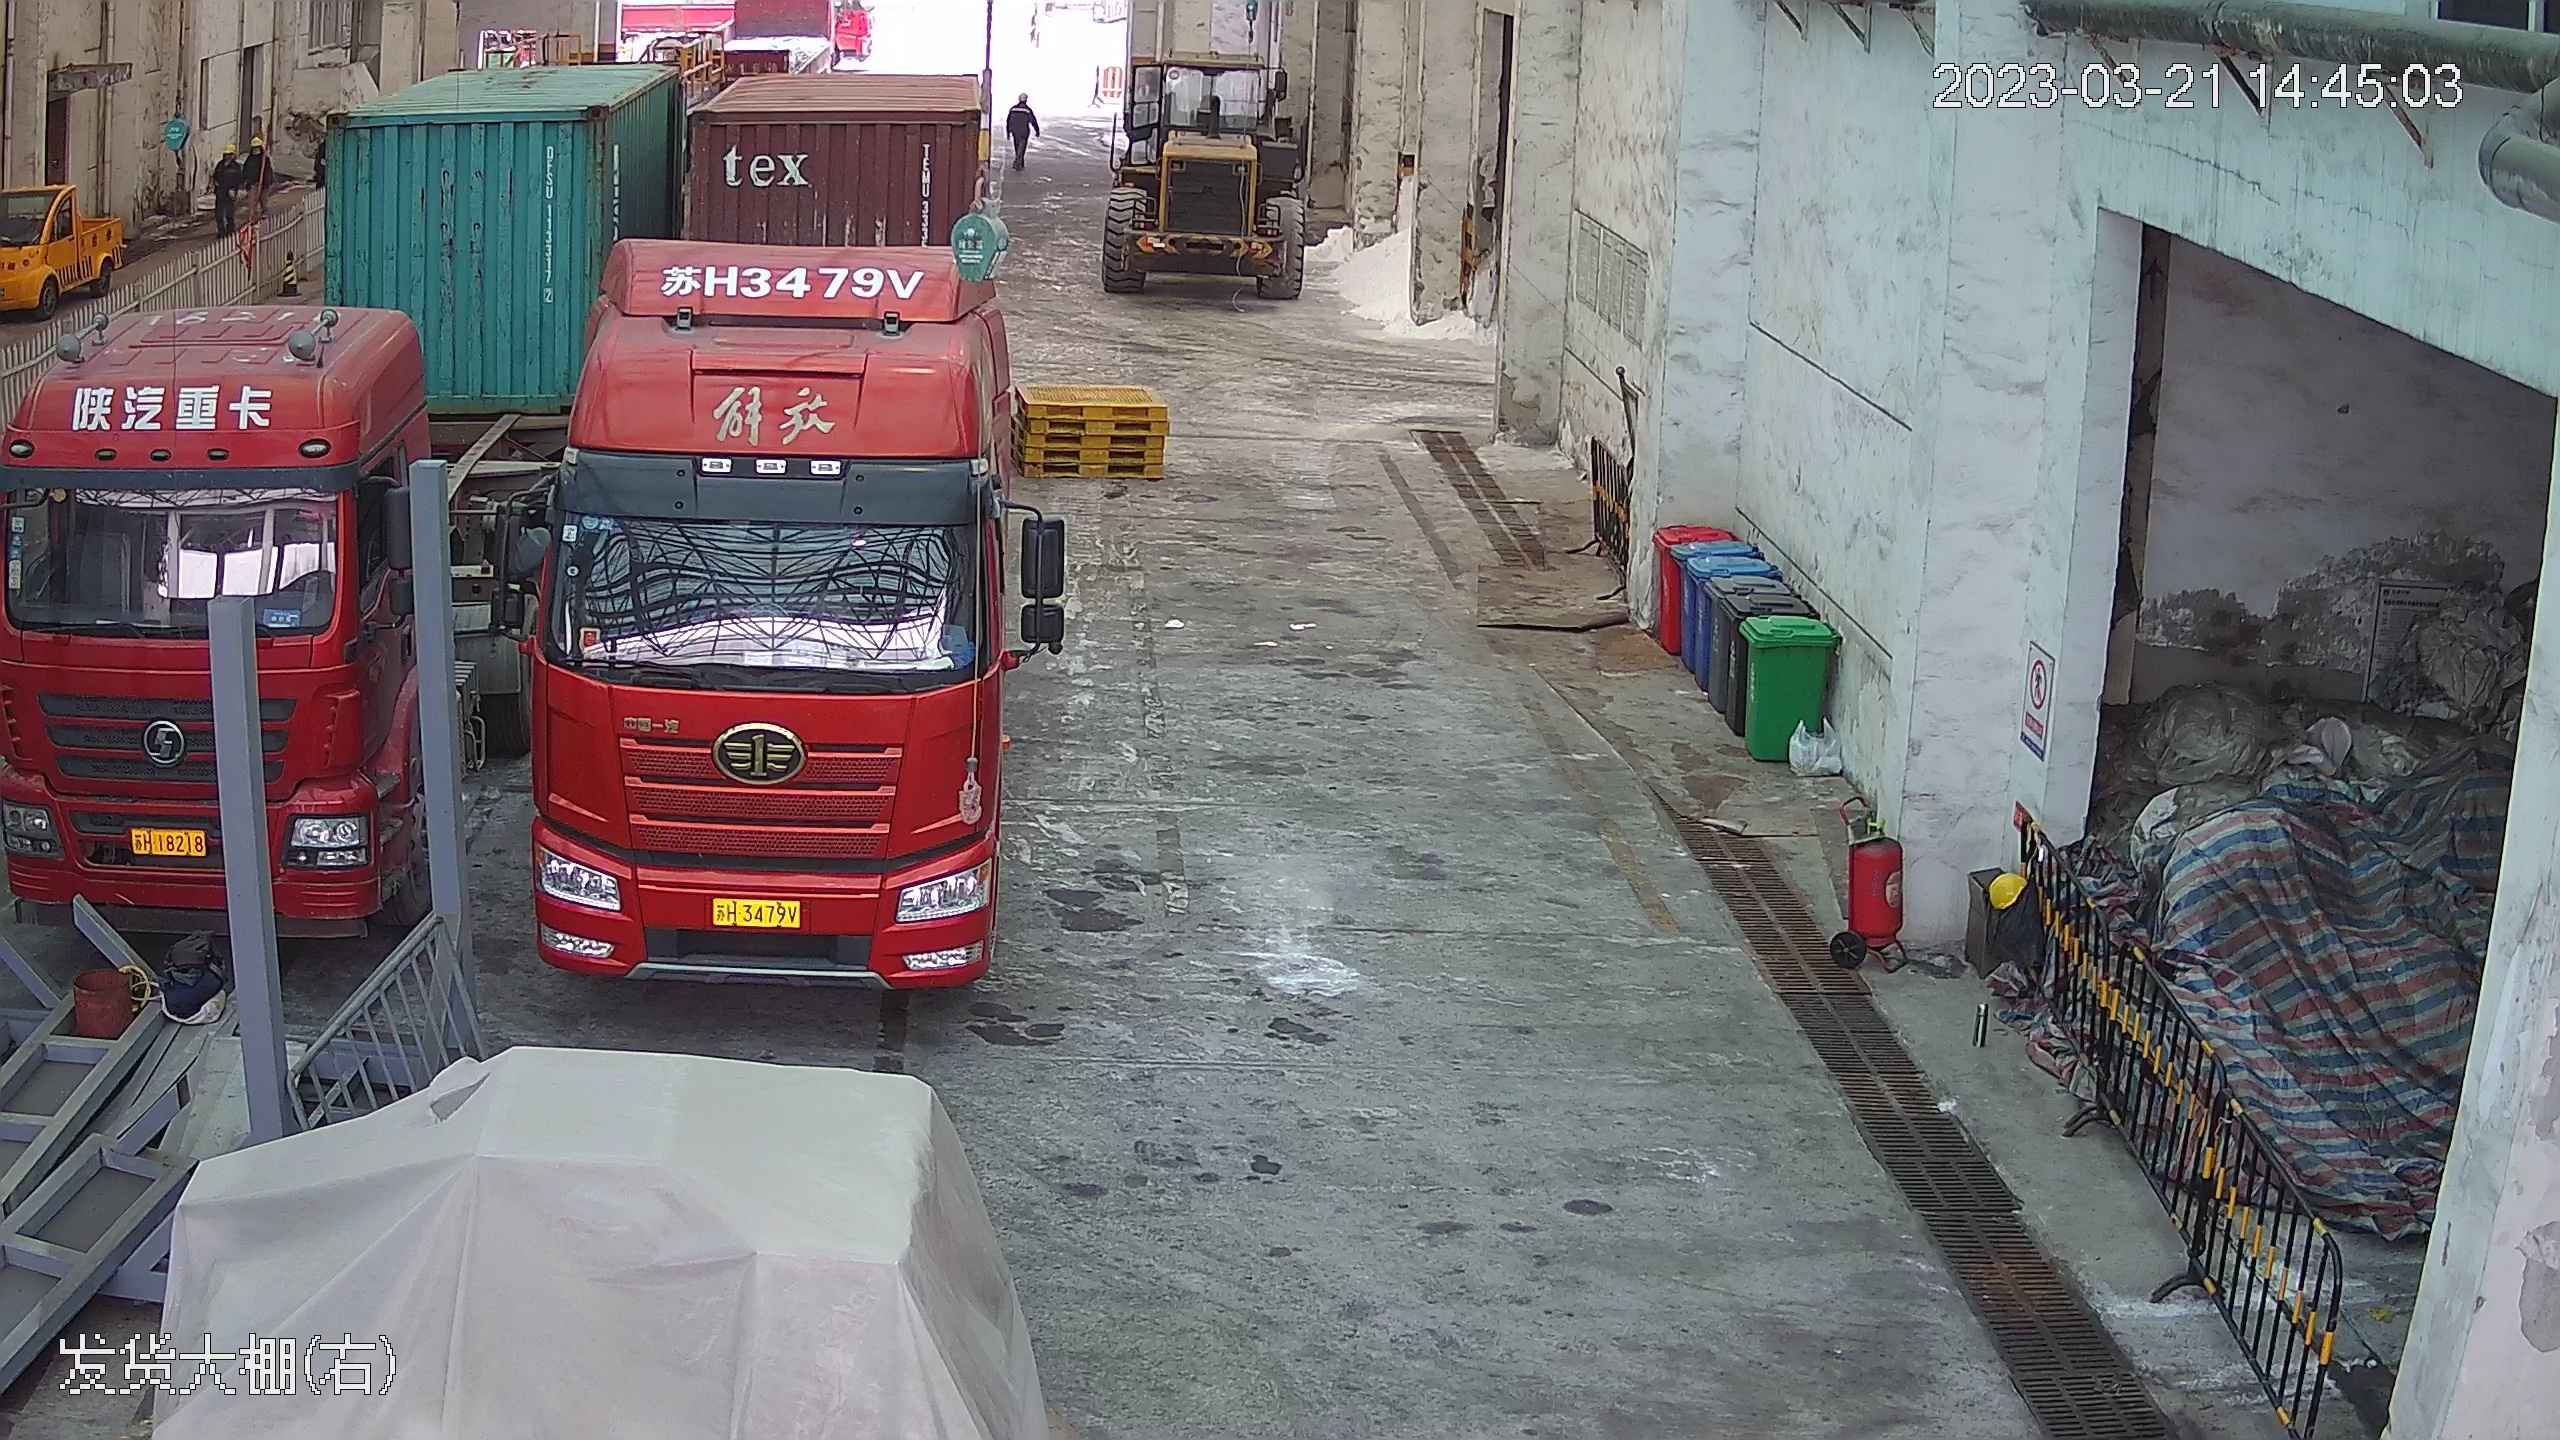head: (210, 138, 243, 177), (245, 134, 273, 175), (1010, 85, 1042, 118)
helmet: (1986, 867, 2027, 912), (248, 136, 263, 147), (221, 142, 235, 155), (1017, 92, 1028, 103)
people: (241, 132, 278, 222), (207, 138, 245, 225), (1007, 84, 1045, 172)
truck: (509, 19, 1044, 992), (1, 23, 491, 957)
